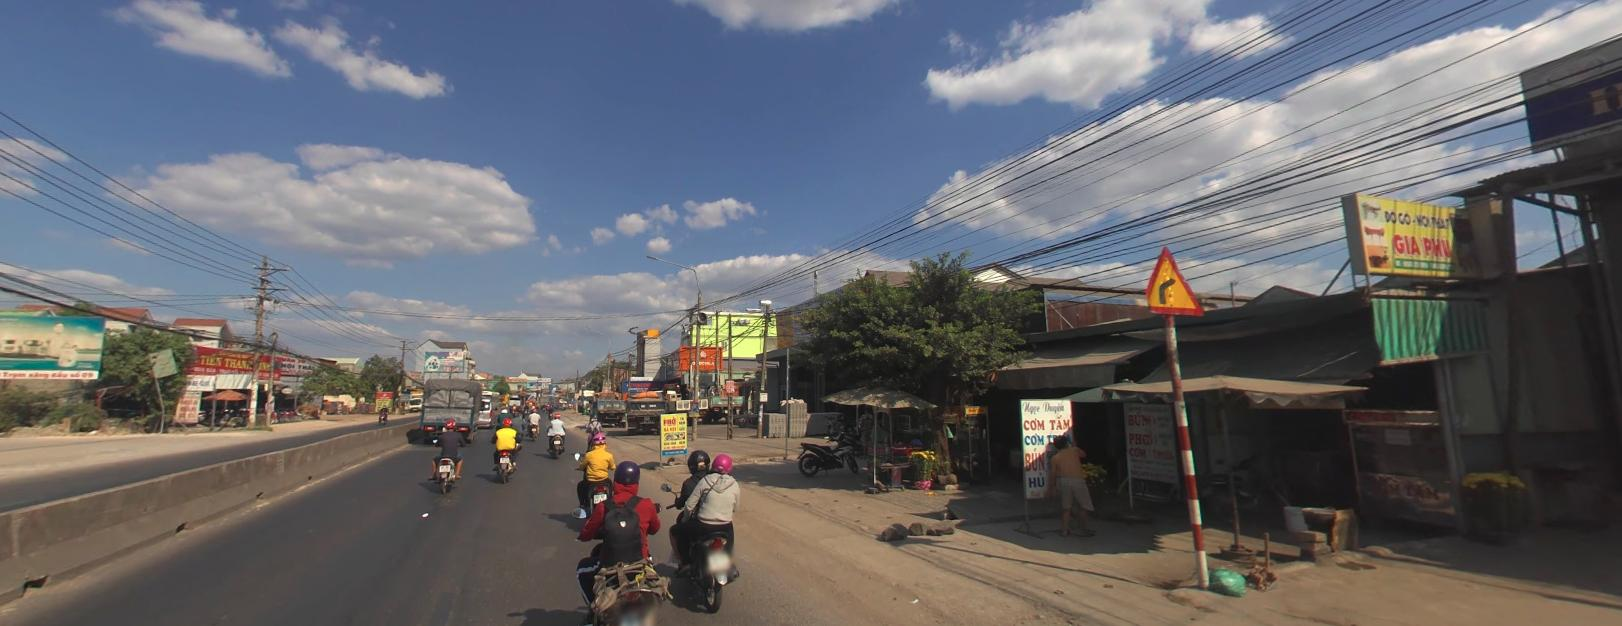Nguy hiem: (1142, 245, 1205, 315), (1143, 245, 1204, 314)
